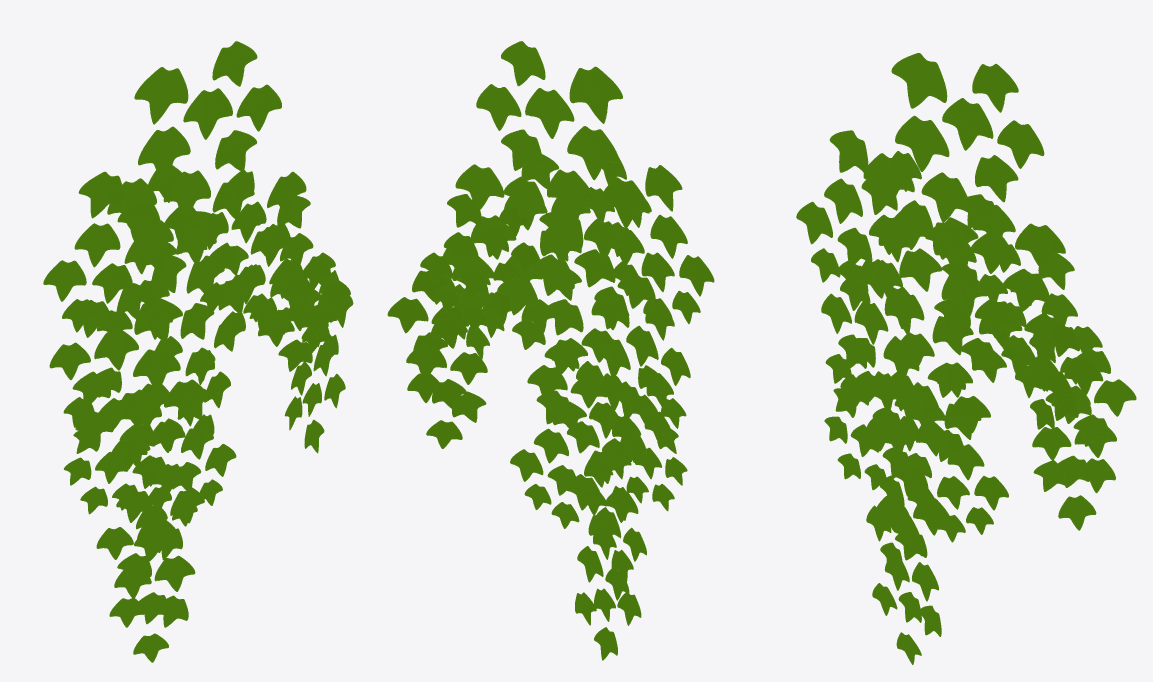
The model's file is Prop_Vine1.glb.
The picture shows the model from 3 angles, left to right: view 1: azimuth 30°, elevation 25°; view 2: azimuth 150°, elevation 25°; view 3: azimuth 330°, elevation 25°; orthographic projection. The views are drawn at different scales.
Parts seen in each view (by area): view 1: Prop_Vine1; view 2: Prop_Vine1; view 3: Prop_Vine1.
Boxes of the visible parts, box(x1,y1,x2,y2) form: Prop_Vine1: box(43, 41, 353, 662); Prop_Vine1: box(387, 41, 714, 660); Prop_Vine1: box(796, 53, 1136, 664).
Size of the model in its own units: 1.54 by 2.6 by 0.219.
1 material, 1 textured.
